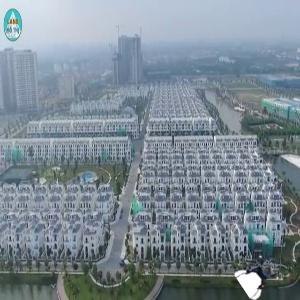drone: (240, 258, 279, 297)
